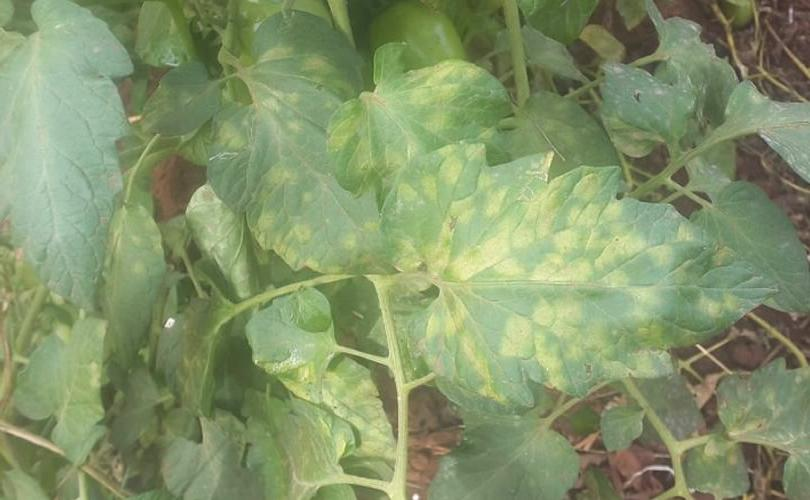Tomato mold leaf: (399, 140, 769, 412), (201, 28, 396, 275), (0, 16, 133, 313), (338, 51, 496, 214), (14, 320, 107, 450)
